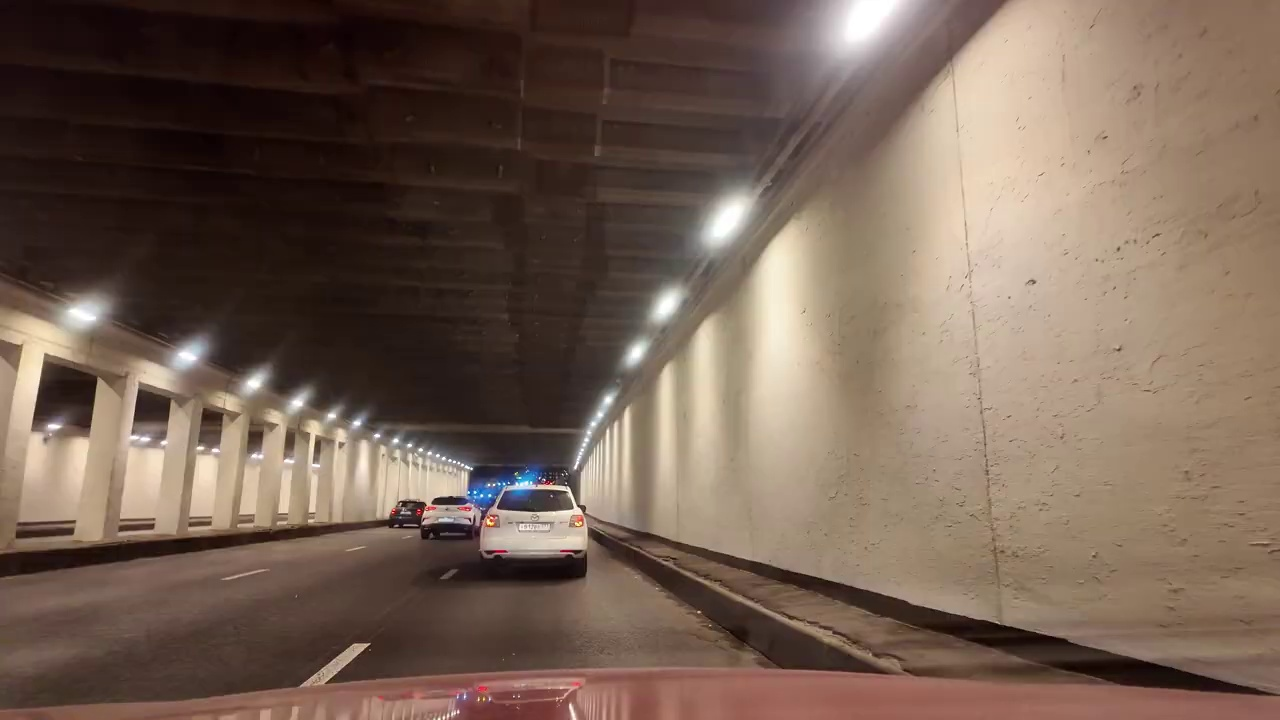acesa: (833, 2, 918, 52), (701, 189, 756, 244), (648, 284, 683, 320)
